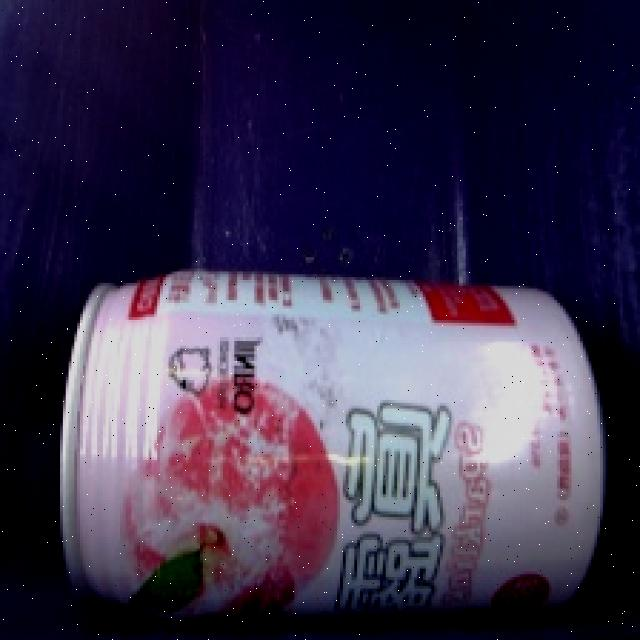metal: (44, 252, 619, 633)
